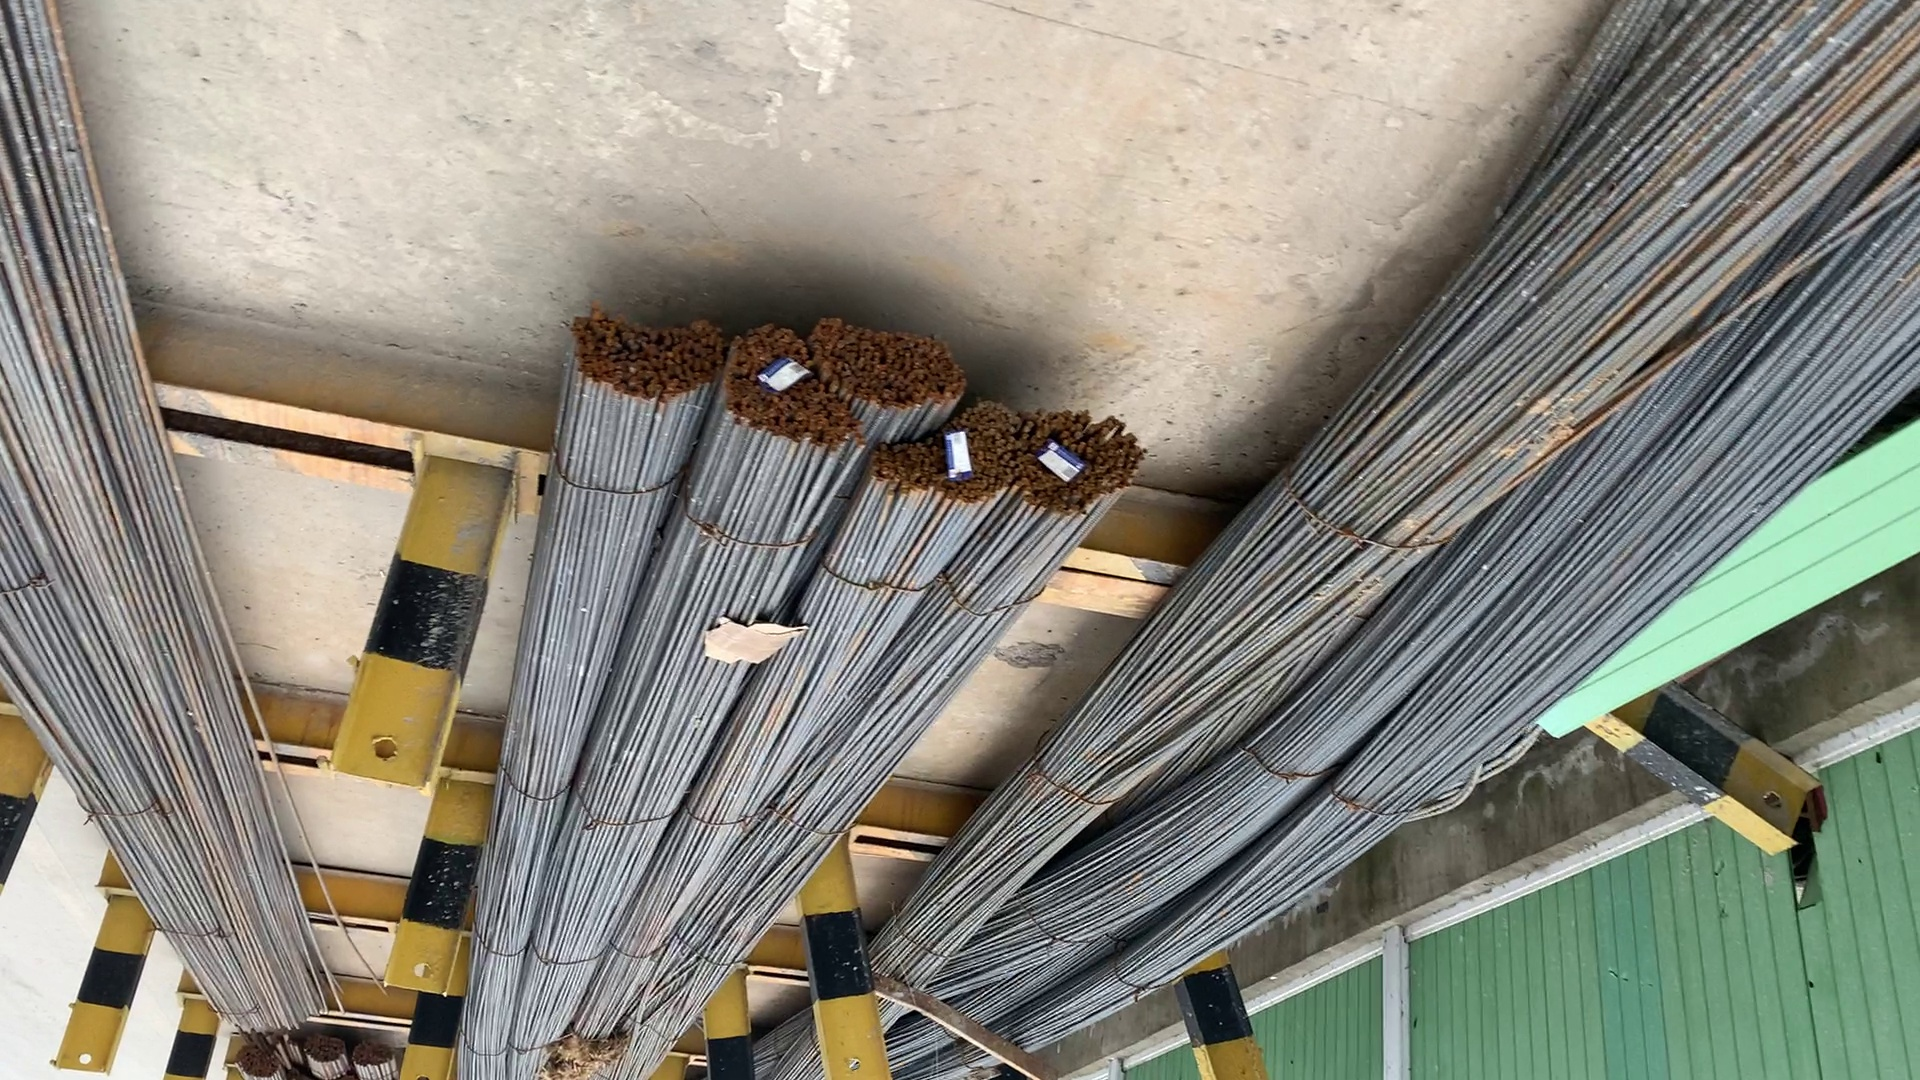rebar: (723, 326, 856, 454), (566, 306, 717, 410), (819, 315, 967, 414), (1021, 407, 1154, 516), (868, 407, 1018, 502)
